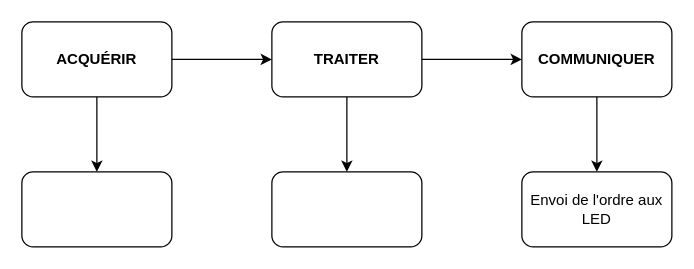
The diagram is 694 pixels wide and 269 high, and some of its shapes have lost their labels. The centre of each missing label's shape, as x and y in pixels:
Capteur de luminosité: point 96,209
Carte électronique: point 346,209
